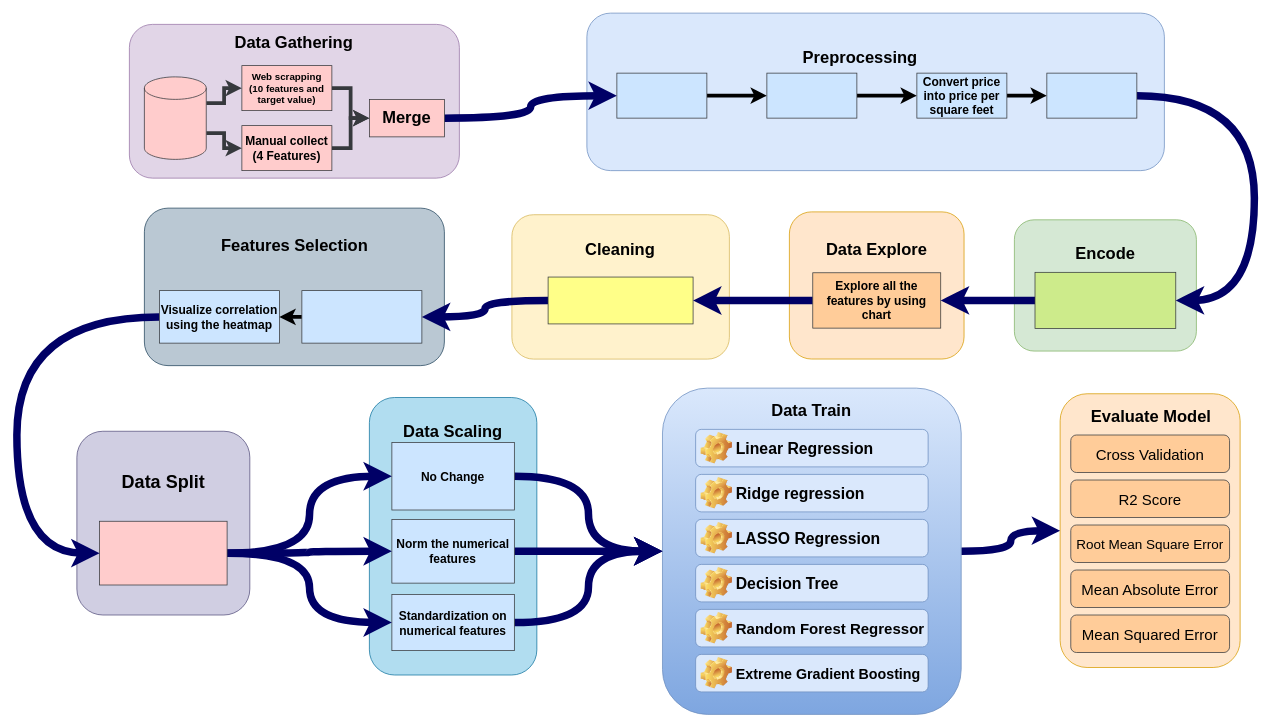
Some shapes in this 1271 by 728 pixel diagram are drawn without their labels. The shapes that lost their labels are listed below. From the top down, each one's centre as x and y in pixels, then its label:
At (x=661, y=95): "Drop unnecessary features".
At (x=811, y=95): "Sort the address".
At (x=1091, y=95): "Remove all duplicate value".
At (x=175, y=117): "BProperty website".
At (x=361, y=316): "Drop negative and low correlated features".
At (x=620, y=300): "Find out all the null value and find them.".
At (x=1105, y=300): "Convert Categorical value into numerical value".
At (x=163, y=552): "Split data into test and train set".
